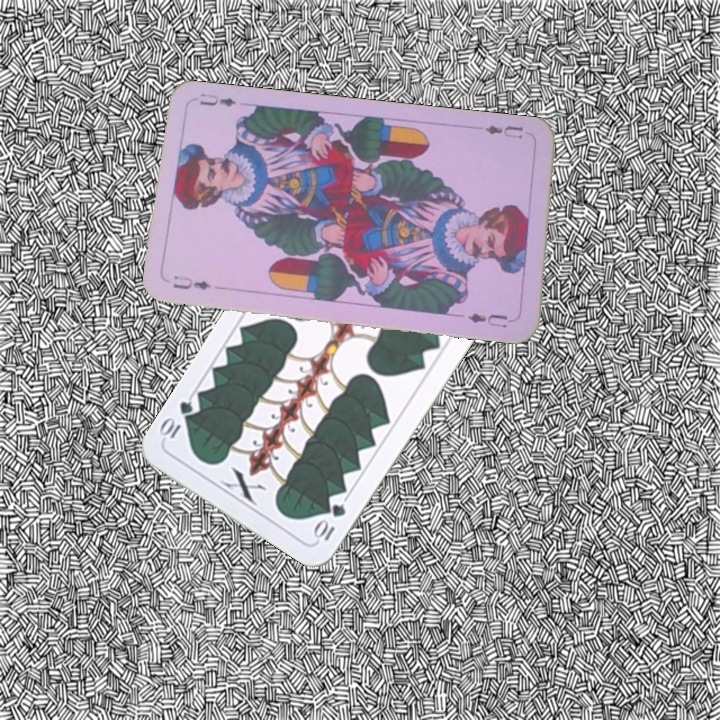EU: (168, 272, 213, 293), (481, 121, 525, 141)
G10: (309, 499, 349, 544)
